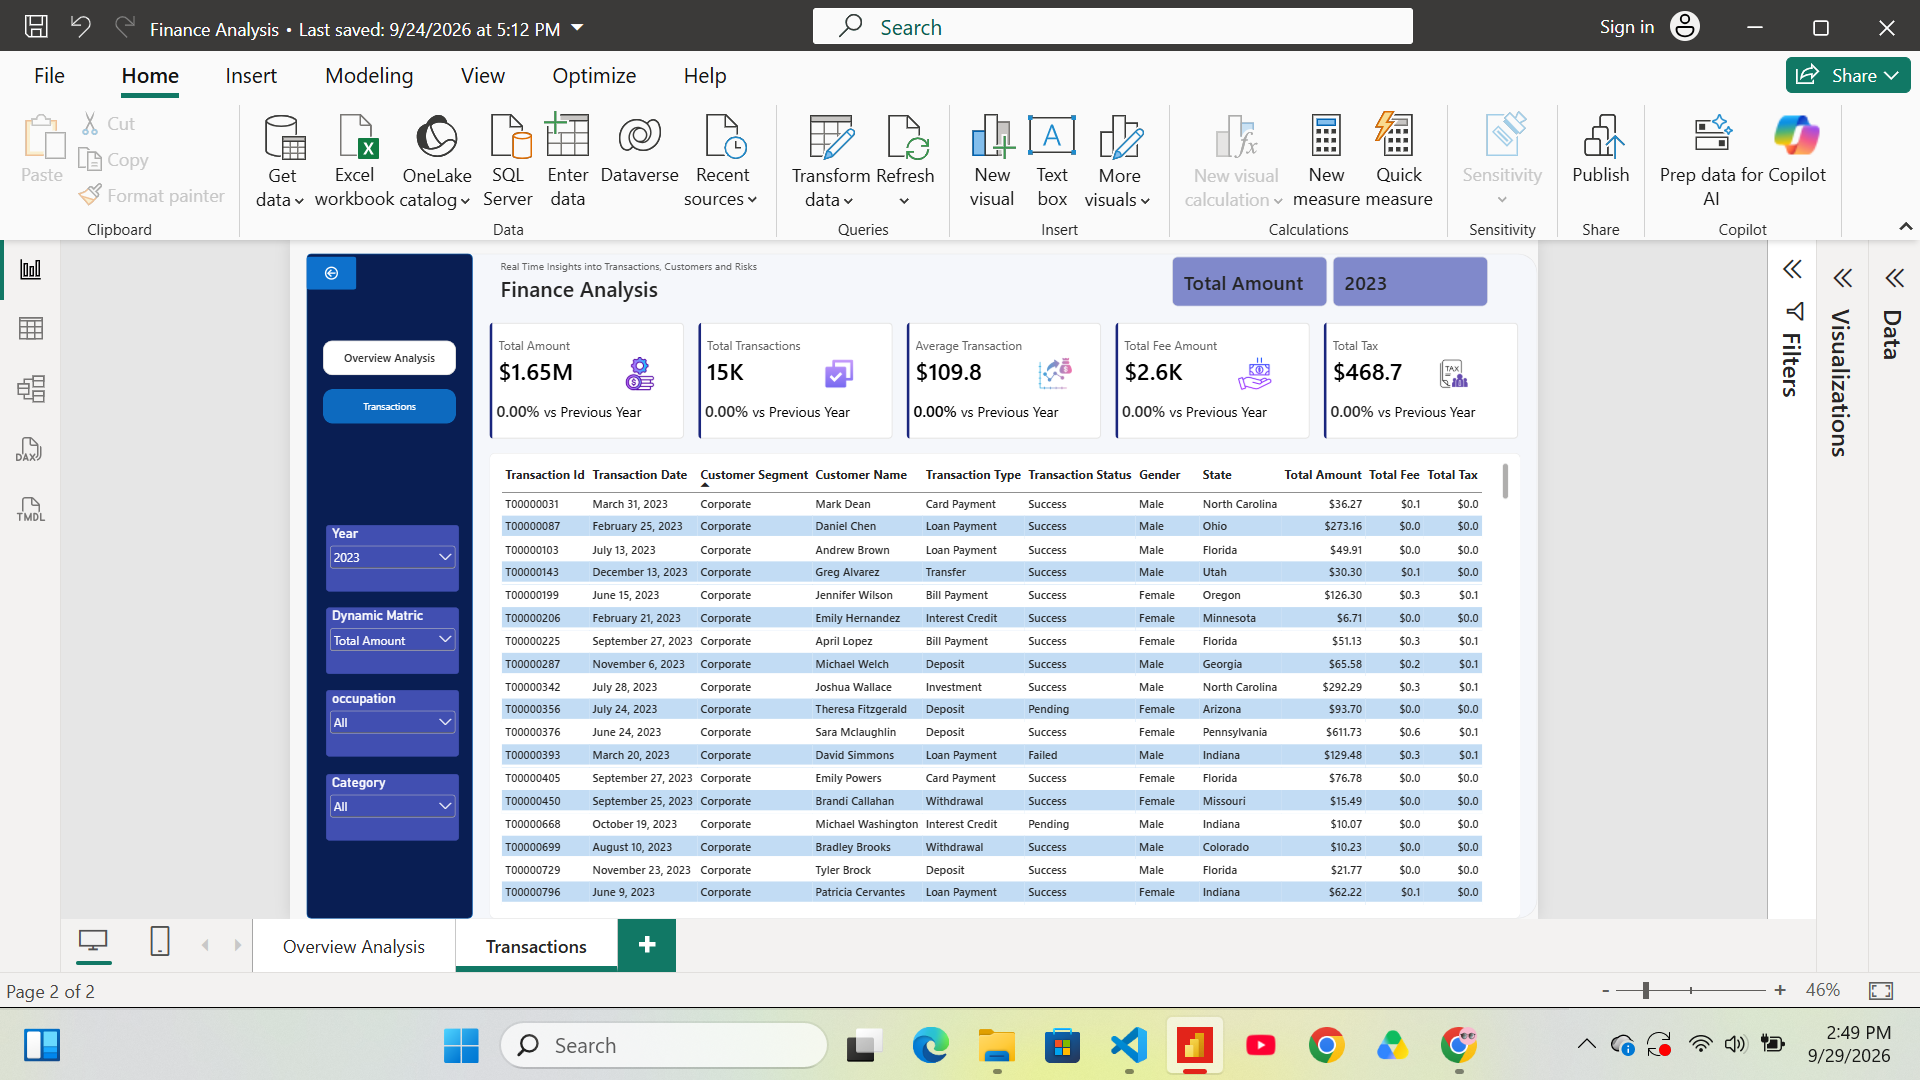

Layout of this report page (visuals, bound fields, positions):
{"tool":"powerbi","page":{"name":"Transactions","canvas":[1800,980],"ordinal":1},"visuals":[{"type":"shape","box":[216,20,1584,960],"z":0},{"type":"shape","box":[24,20,240,960],"z":1000},{"type":"cardVisual","fields":{"Data":["finance_transactions_us.dashboard_title"]},"box":[288,0,504,120],"z":2000},{"type":"cardVisual","fields":{"Data":["finance_transactions_us.total_amount","finance_transactions_us.total_transactions","finance_transactions_us.average _transaction_value","finance_transactions_us.total_fee","finance_transactions_us.total_tax"]},"box":[288,120,1488,168],"z":3000},{"type":"image","box":[456,168,96,48],"z":4000},{"type":"image","box":[744,168,96,48],"z":5000},{"type":"image","box":[1056,168,96,48],"z":6000},{"type":"image","box":[1344,168,96,48],"z":7000},{"type":"image","box":[1632,168,96,48],"z":8000},{"type":"cardVisual","fields":{"Data":["finance_transactions_us.Selected Dynamic Measure","finance_transactions_us.Selected Year"]},"box":[1272,24,456,72],"z":9000},{"type":"tableEx","fields":{"Values":["finance_transactions_us.transaction_id","finance_transactions_us.transaction_date","customers_us.customer_segment","customers_us.customer_name","finance_transactions_us.transaction_type","finance_transactions_us.transaction_status","customers_us.gender","customers_us.state","finance_transactions_us.Total Amount","finance_transactions_us.Total Fee","finance_transactions_us.Total Tax"]},"box":[288,308,1488,672],"z":10000},{"type":"actionButton","box":[24,24,72,48],"z":11000},{"type":"slicer","fields":{"Values":["calender_table.Year"]},"box":[52.1,410.5,192,96],"z":12000},{"type":"slicer","fields":{"Values":["Dynamic Matric.Dynamic Matric"]},"box":[52.1,530.5,192,96],"z":13000},{"type":"slicer","fields":{"Values":["customers_us.occupation"]},"box":[52.1,650.5,192,96],"z":14000},{"type":"slicer","fields":{"Values":["finance_transactions_us.merchant_category"]},"box":[52.1,770.5,192,96],"z":15000},{"type":"pageNavigator","box":[48,144,192,120],"z":16000}]}

Visuals, with their boxes on the page's 1800x980 design canvas (x1, y1, x2, y2). These are canvas units, not pixel positions in the 1920x1080 screenshot, which may show the page scaled, cropped or inside an application window:
shape: left=216, top=20, right=1800, bottom=980
shape: left=24, top=20, right=264, bottom=980
cardVisual - finance_transactions_us.dashboard_title: left=288, top=0, right=792, bottom=120
cardVisual - finance_transactions_us.total_amount x finance_transactions_us.total_transactions: left=288, top=120, right=1776, bottom=288
image: left=456, top=168, right=552, bottom=216
image: left=744, top=168, right=840, bottom=216
image: left=1056, top=168, right=1152, bottom=216
image: left=1344, top=168, right=1440, bottom=216
image: left=1632, top=168, right=1728, bottom=216
cardVisual - finance_transactions_us.Selected Dynamic Measure x finance_transactions_us.Selected Year: left=1272, top=24, right=1728, bottom=96
tableEx - finance_transactions_us.transaction_id x finance_transactions_us.transaction_date: left=288, top=308, right=1776, bottom=980
actionButton: left=24, top=24, right=96, bottom=72
slicer - calender_table.Year: left=52, top=410, right=244, bottom=506
slicer - Dynamic Matric.Dynamic Matric: left=52, top=530, right=244, bottom=626
slicer - customers_us.occupation: left=52, top=650, right=244, bottom=746
slicer - finance_transactions_us.merchant_category: left=52, top=770, right=244, bottom=866
pageNavigator: left=48, top=144, right=240, bottom=264
